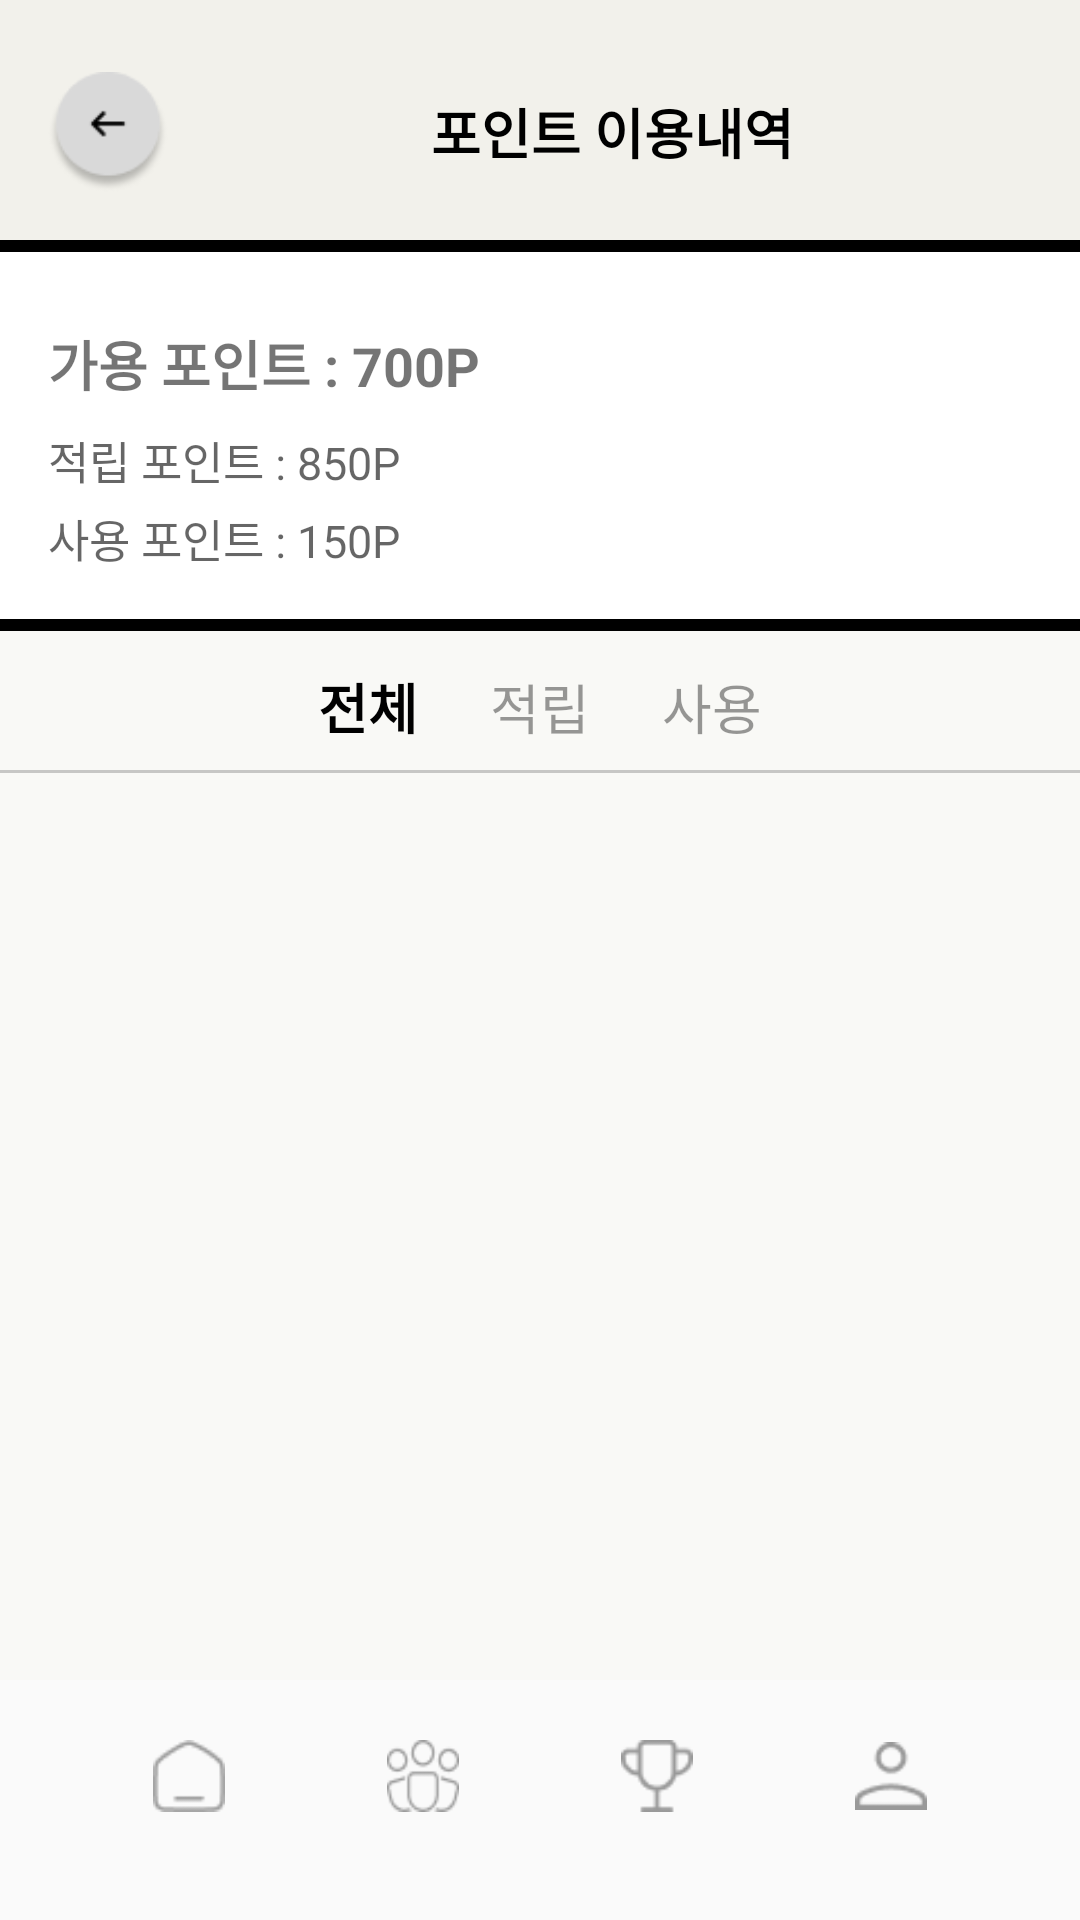

Locate icon controls on the screen. Image size 1080w x 1920h, boxes as bbox=(x1, y1, x2, y2).
back: bbox=(56, 72, 160, 185)
마이 아이콘: bbox=(855, 1742, 927, 1810)
챌린지 아이콘: bbox=(621, 1740, 693, 1812)
커뮤니티 아이콘: bbox=(387, 1740, 459, 1812)
홈 아이콘: bbox=(153, 1740, 225, 1812)
